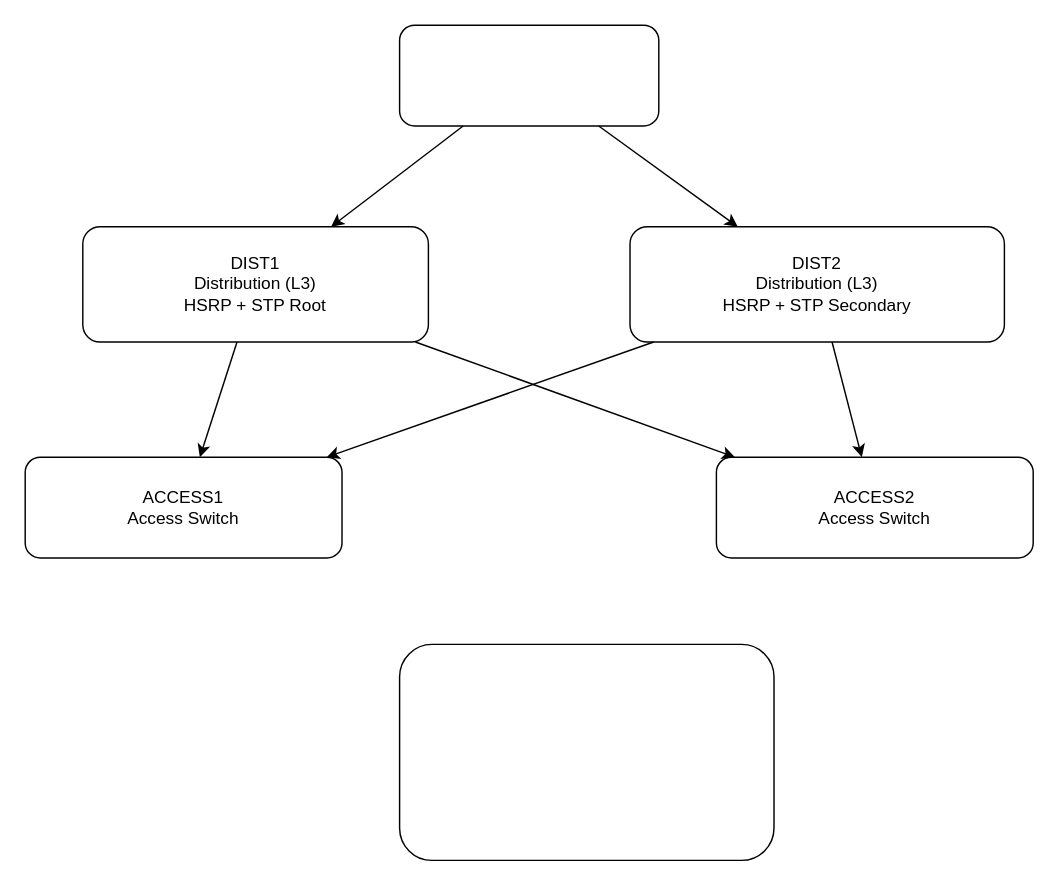
Image size: 1058x886. Some labels were removed from this diagram. Each missing label, with the centre of its shape:
EDGE1 Internet Edge (NAT/PAT): point (528, 75)
Segments (VLANs) 10 HR 20 Finance 30 Engineering 40 Guest 99 Mgmt: point (586, 751)
